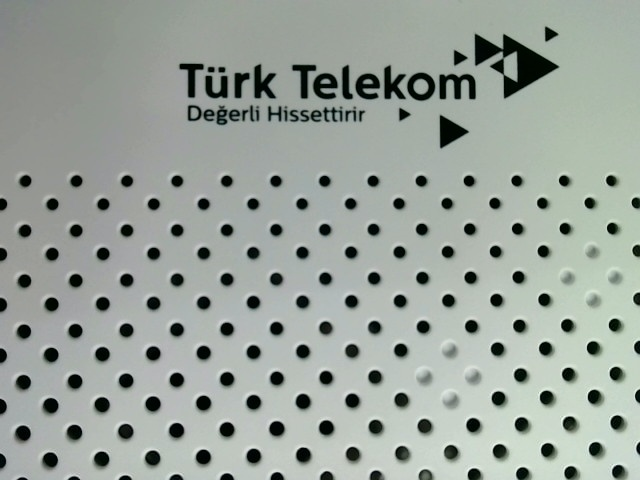AQ_TURKTelekom: (178, 24, 564, 146)
